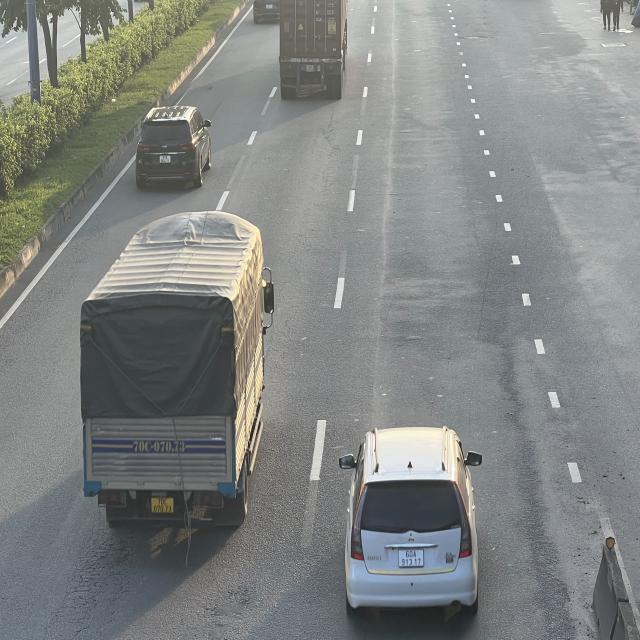car: (339, 421, 485, 615), (134, 106, 211, 192)
container: (278, 2, 348, 103)
truck: (78, 213, 273, 542)
